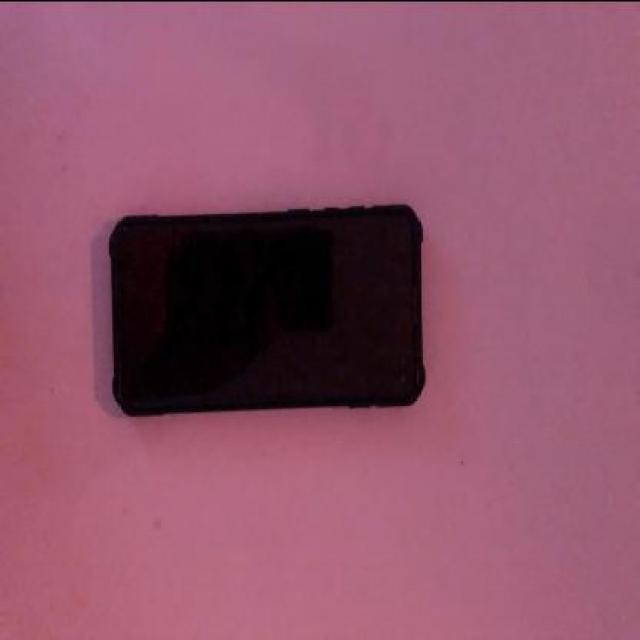phone: (110, 204, 424, 420)
